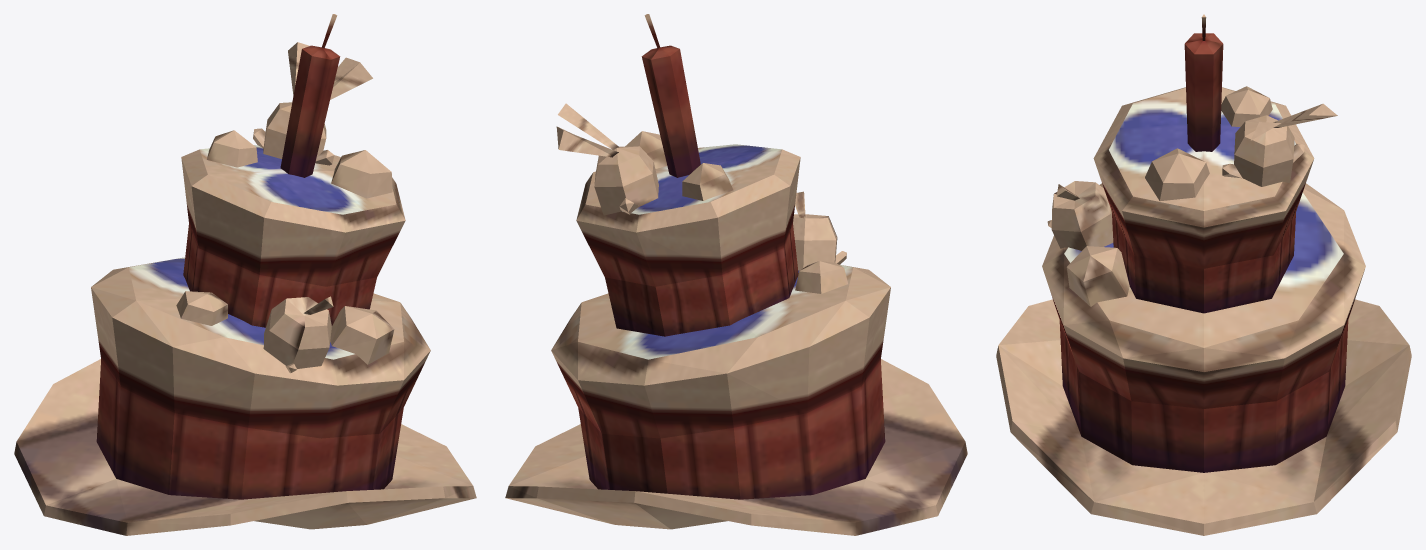
Rendered from Rabbit_cakeHat.obj.
3 views of the same model, side by side, from view 1: azimuth 30°, elevation 25°; view 2: azimuth 150°, elevation 25°; view 3: azimuth 270°, elevation 25° (orthographic).
Visible parts, largest first — view 1: Rabbit_cakeHat_tri; view 2: Rabbit_cakeHat_tri; view 3: Rabbit_cakeHat_tri.
Boxes of the visible parts, <box> form: Rabbit_cakeHat_tri: <box>14,14,476,535</box>; Rabbit_cakeHat_tri: <box>505,14,967,535</box>; Rabbit_cakeHat_tri: <box>996,14,1411,535</box>.
Size of the model in its own units: 0.4316 by 0.4802 by 0.3882.
Materials: 1 (1 with a texture image).
